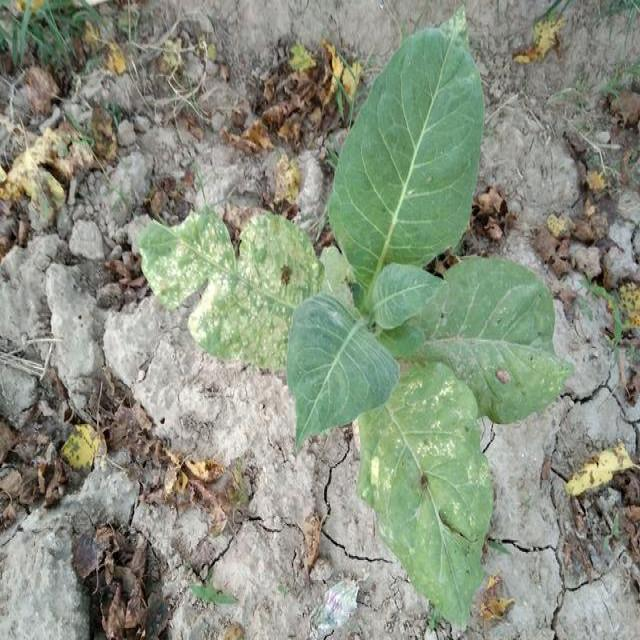crop: (135, 14, 571, 633)
